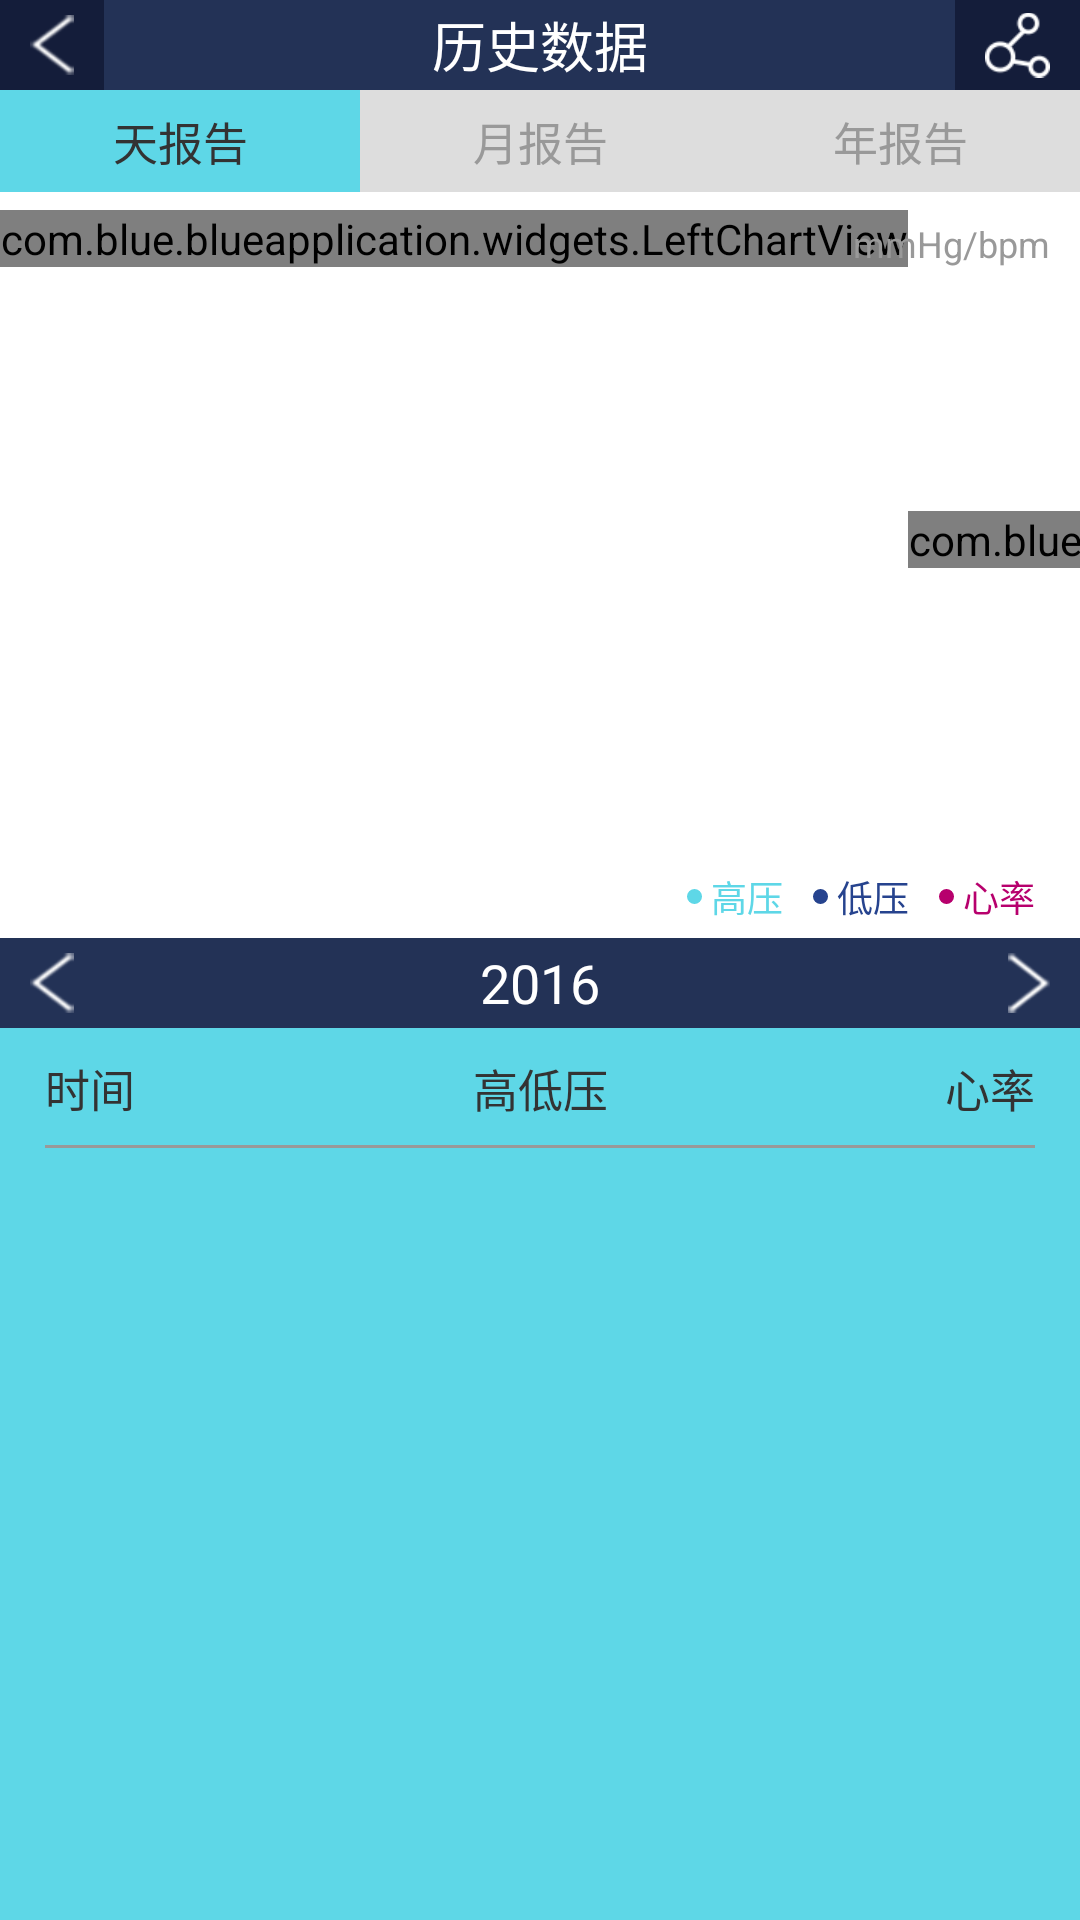

Where to tap for icons on this 1080x1920 app screen, as (x,y):
back: (52,45)
left: (52,983)
right: (1029,983)
share: (1017,45)
